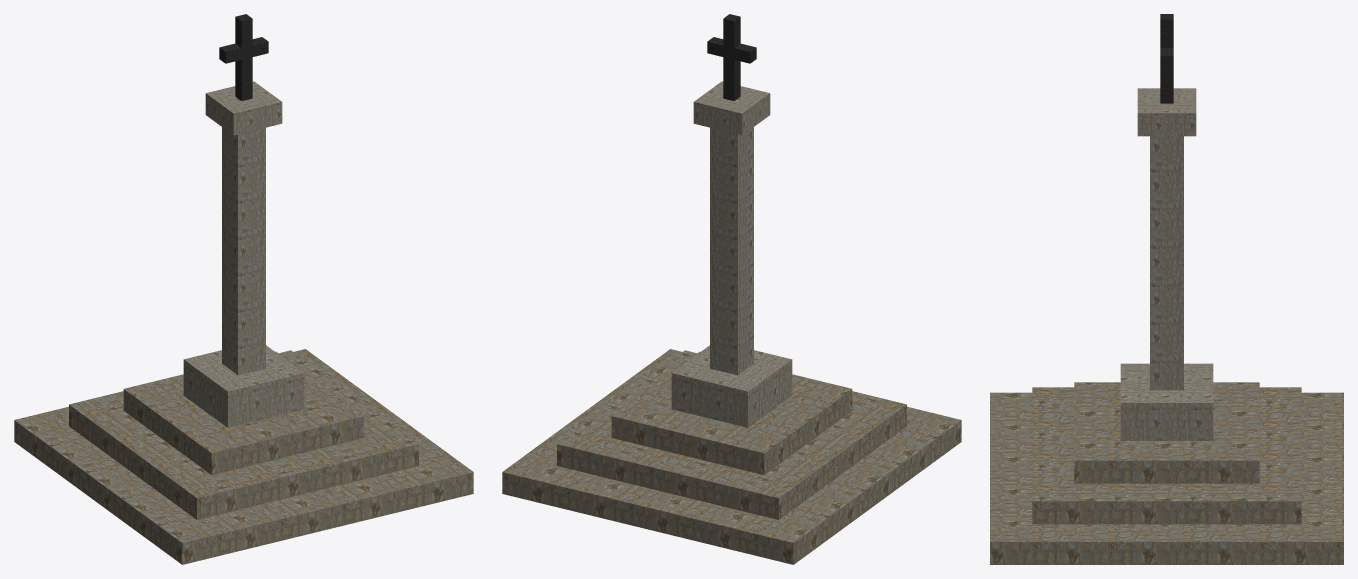
Rendered from prop_hk_cross.glb.
3 renders of one model, left to right at view 1: azimuth 30°, elevation 25°; view 2: azimuth 150°, elevation 25°; view 3: azimuth 270°, elevation 25°, orthographic. The views are drawn at different scales.
Visible parts, largest first — view 1: prop_hk_cross; view 2: prop_hk_cross; view 3: prop_hk_cross.
Part boxes in pixels (left/top/right/bottom): prop_hk_cross: left=14, top=14, right=473, bottom=564; prop_hk_cross: left=502, top=14, right=961, bottom=564; prop_hk_cross: left=990, top=14, right=1343, bottom=564.
Size of the model in its own units: 4.2 by 6.2 by 4.2.
3 materials, 3 textured.
